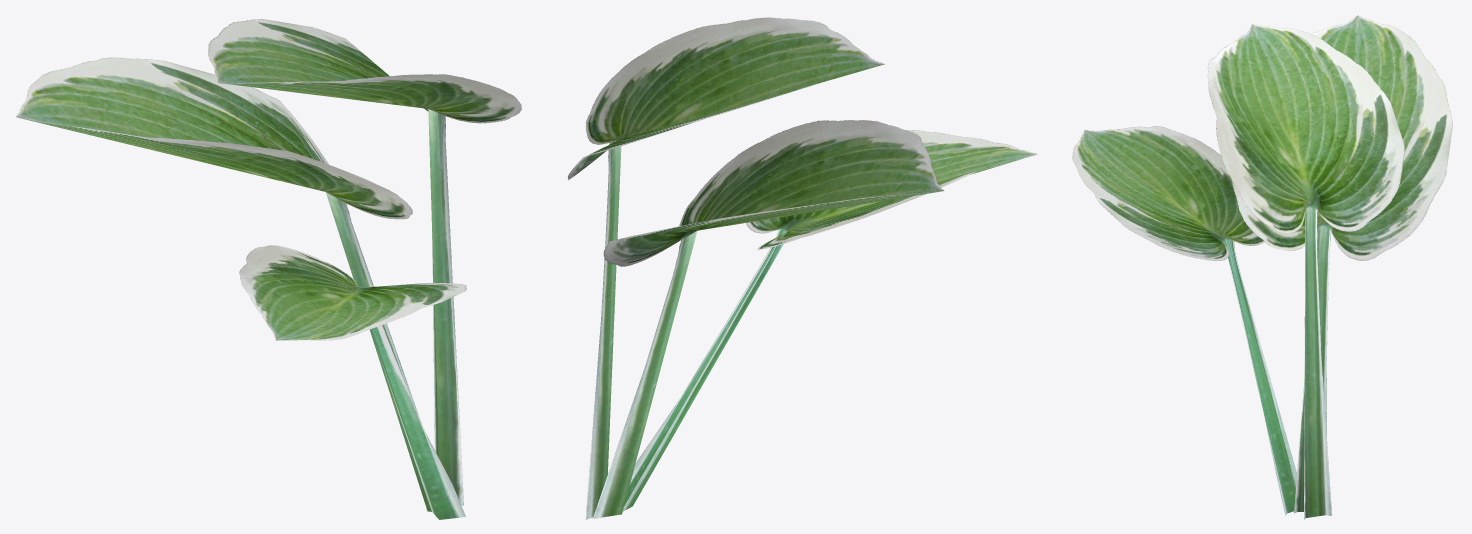
File: plant_small_wg_05S.fbx
The picture shows the model from 3 angles, left to right: view 1: azimuth 30°, elevation 25°; view 2: azimuth 150°, elevation 25°; view 3: azimuth 270°, elevation 25°; orthographic projection. The views are drawn at different scales.
Visible parts, largest first — view 1: plant_small_wg_05S; view 2: plant_small_wg_05S; view 3: plant_small_wg_05S.
Boxes of the visible parts, x1,y1,x2,y2 form: plant_small_wg_05S: (16, 19, 521, 519); plant_small_wg_05S: (567, 17, 1037, 519); plant_small_wg_05S: (1072, 15, 1452, 519).
Bounding box in the file's own units: 30.07 × 33.42 × 29.78.
